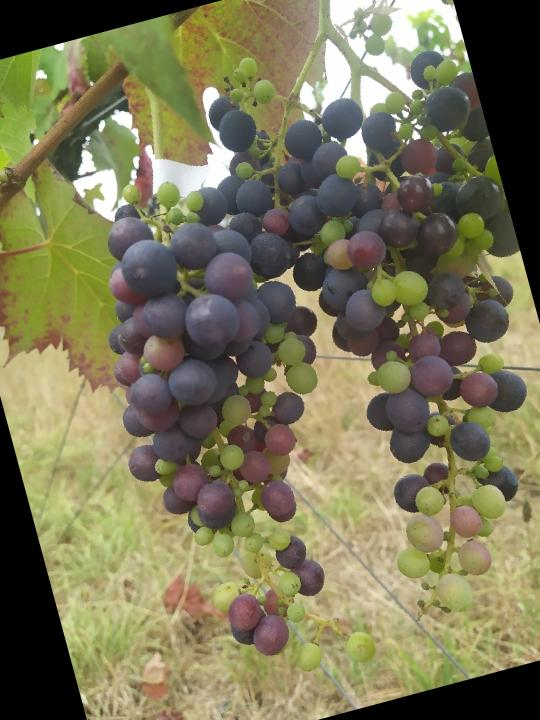grape: (195, 0, 540, 647), (56, 148, 410, 713)
